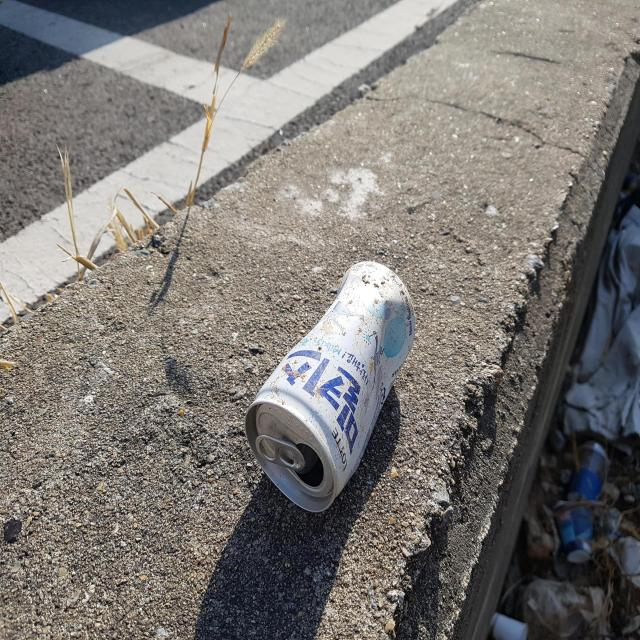can: (245, 261, 416, 512)
